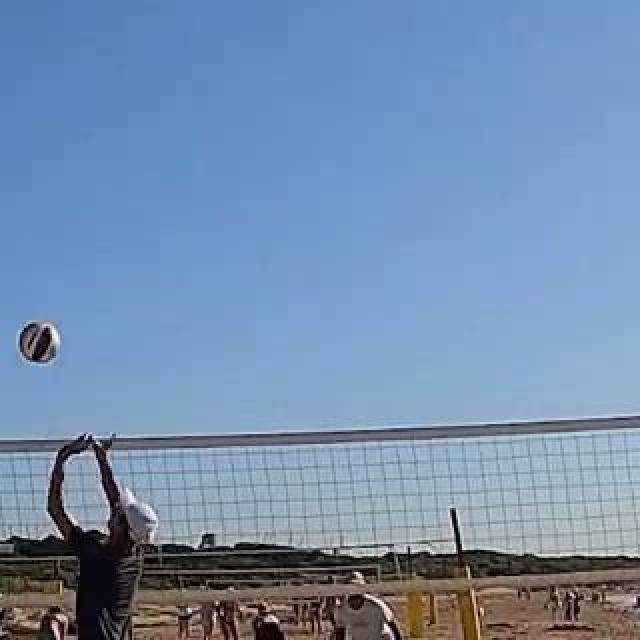volleyball: (18, 323, 60, 363)
